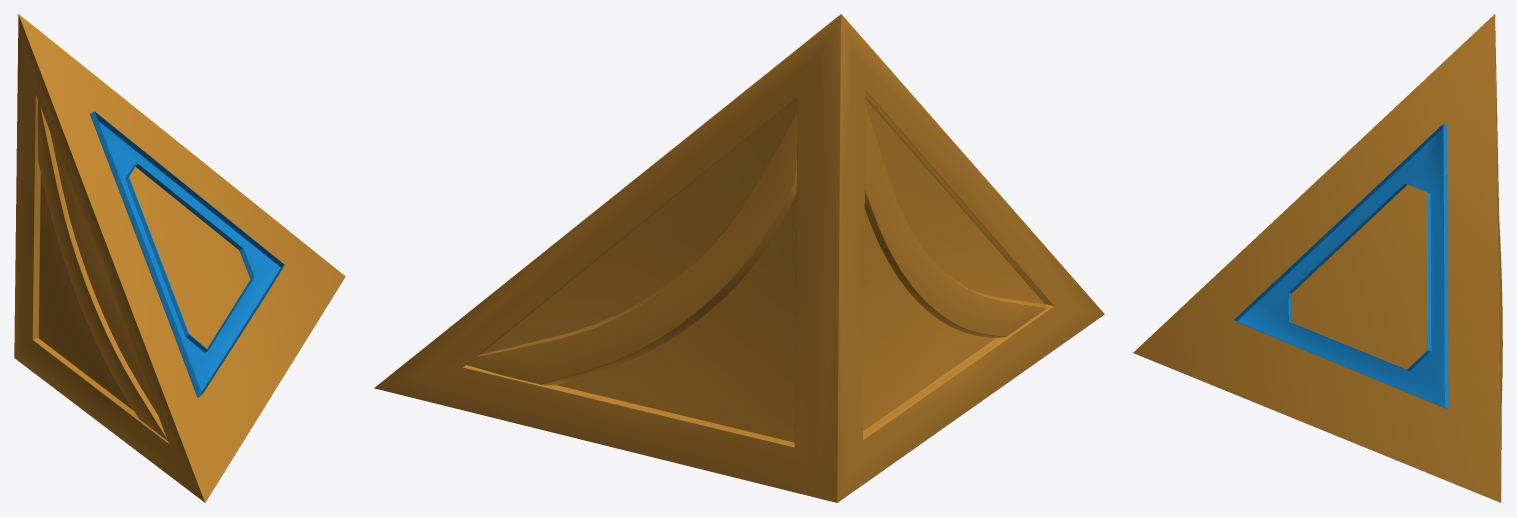
Rendered from esquina_0.obj.
3 renders of one model, left to right at view 1: azimuth 30°, elevation 25°; view 2: azimuth 150°, elevation 25°; view 3: azimuth 270°, elevation 25°, orthographic. The views are drawn at different scales.
Parts seen in each view (by area): view 1: esquina_0; view 2: esquina_0; view 3: esquina_0.
Boxes of the visible parts, <box> form: esquina_0: <box>14,14,345,502</box>; esquina_0: <box>374,14,1104,502</box>; esquina_0: <box>1133,14,1502,502</box>.
Size of the model in its own units: 5.14 by 5.22 by 5.15.
